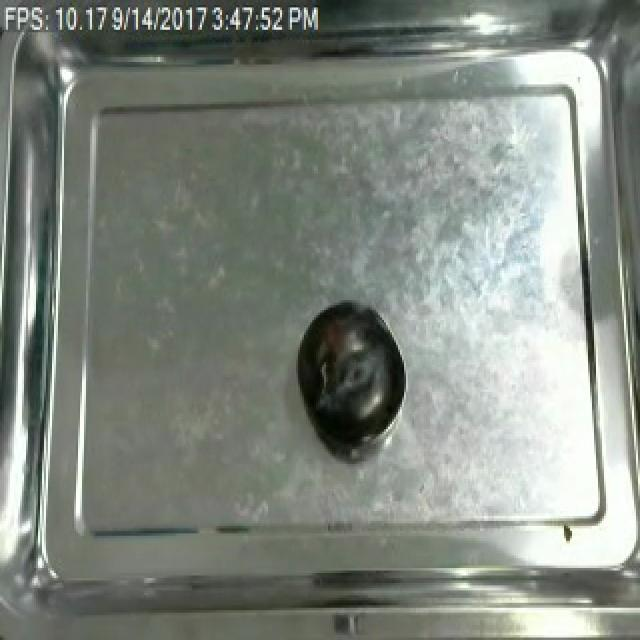Fruit: (292, 295, 406, 449)
